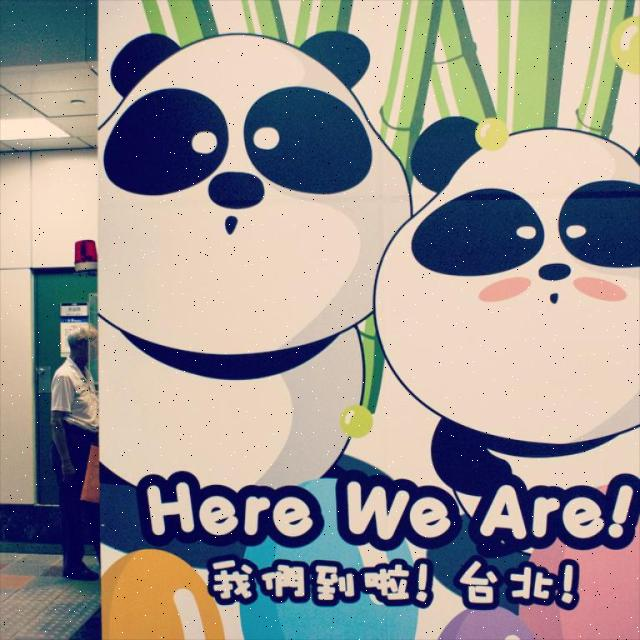panda: (91, 27, 417, 496), (373, 114, 639, 555)
